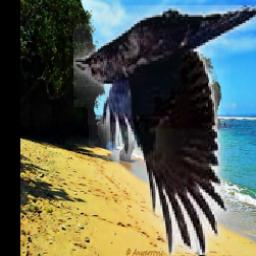Crow: (73, 5, 256, 255)
